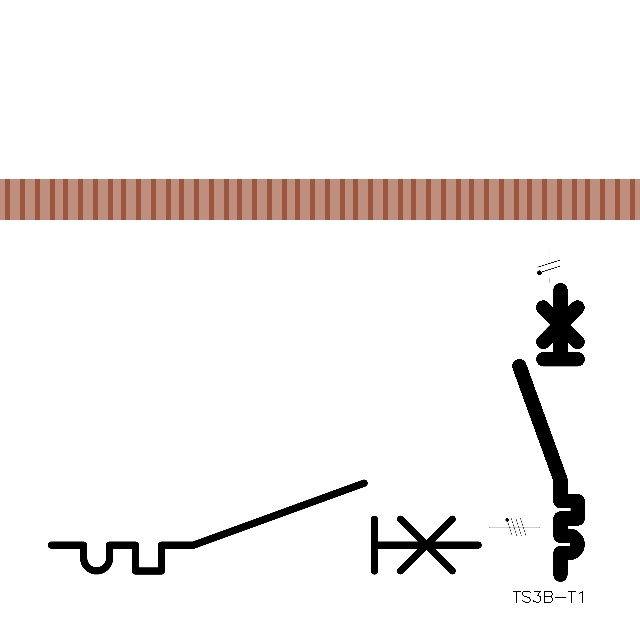interruptor_termomagnetico: (40, 472, 489, 582), (512, 282, 585, 581)
